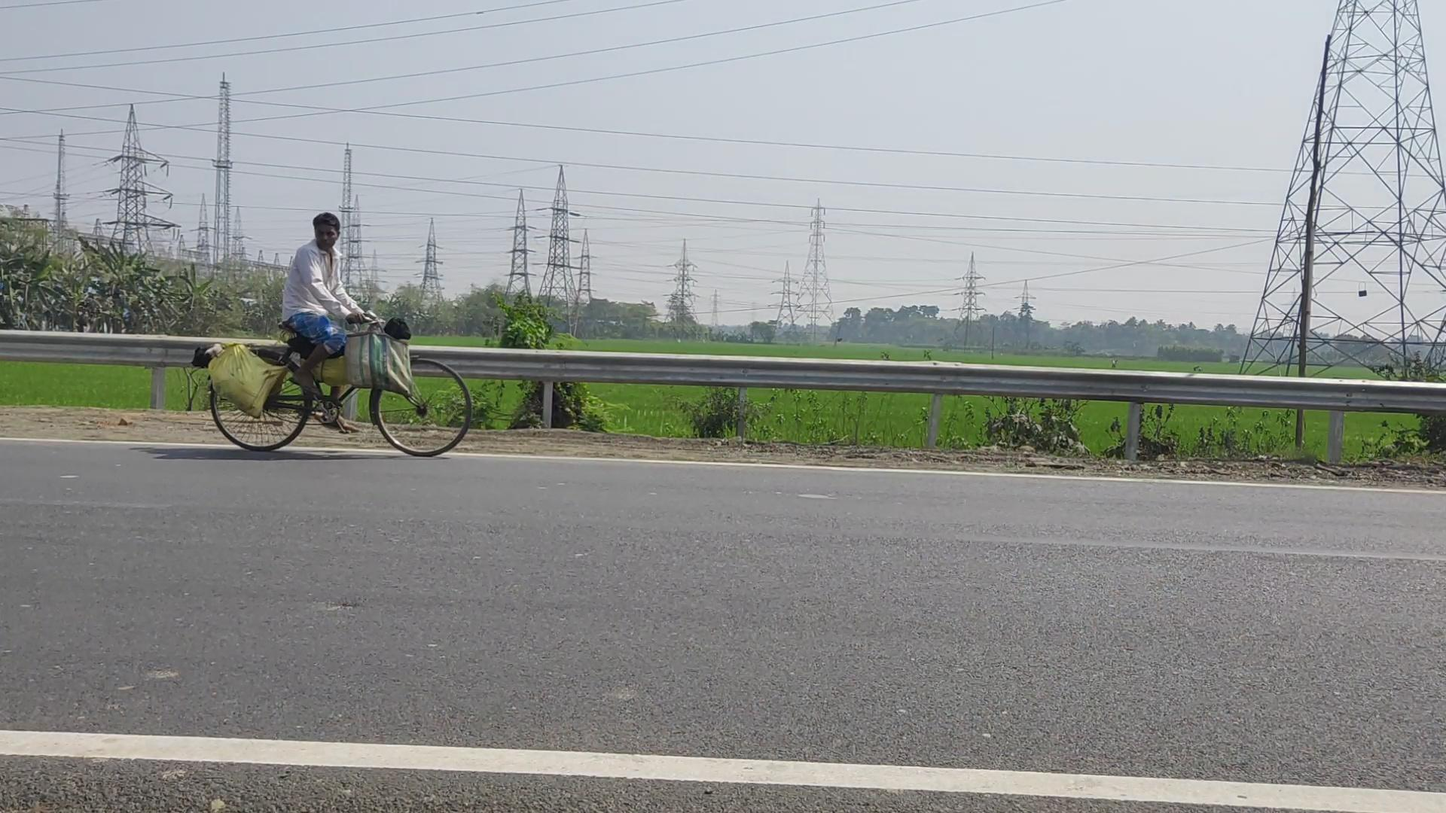bike: (193, 212, 472, 457)
